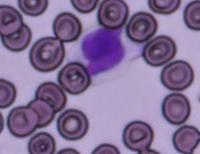M: (73, 25, 134, 83)
